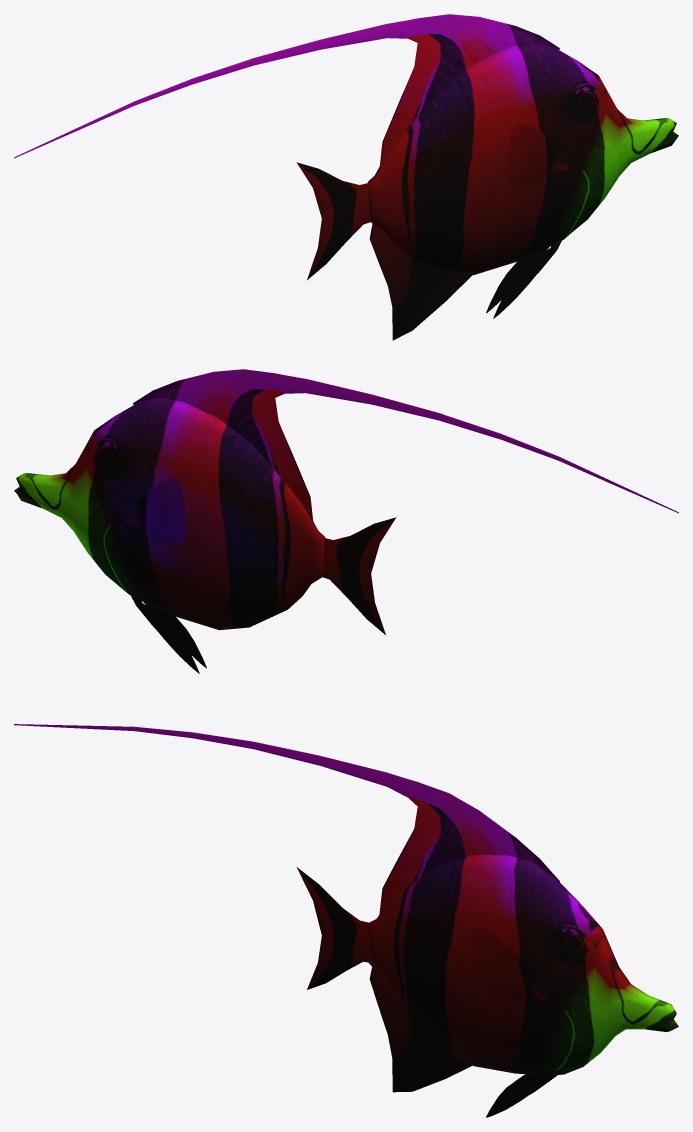
File: moorish_idol.glb
3 renders of one model, top to bottom at view 1: azimuth 30°, elevation 25°; view 2: azimuth 150°, elevation 25°; view 3: azimuth 330°, elevation 25°, orthographic.
Parts seen in each view (by area): view 1: MoorishIdol; view 2: MoorishIdol; view 3: MoorishIdol.
Boxes of the visible parts, x1,y1,x2,y2 form: MoorishIdol: (14,14,678,340); MoorishIdol: (14,369,678,673); MoorishIdol: (14,724,678,1117).
Size of the model in its own units: 1 by 0.458 by 0.1033.
1 material, 1 textured.
